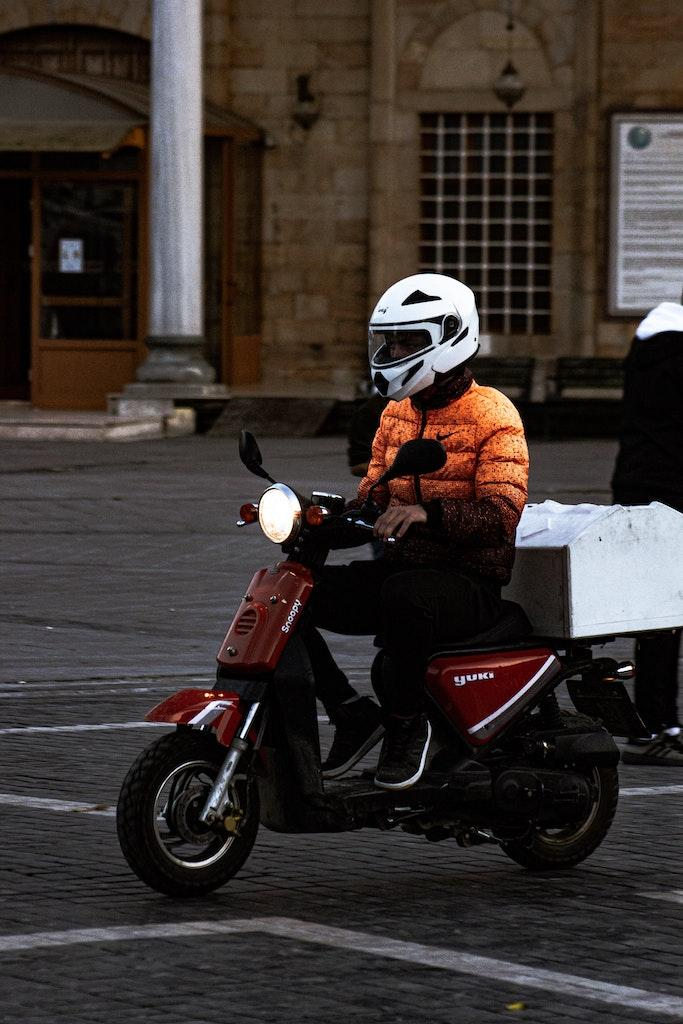helmet: (367, 272, 481, 403)
